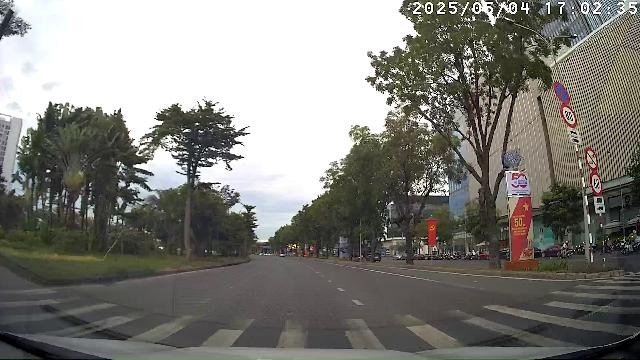127-toc-do-toi-da-60: (590, 172, 604, 196)
127-toc-do-toi-da-80: (560, 105, 578, 127)
130-cam-dung-va-do-xe: (554, 82, 570, 105)
